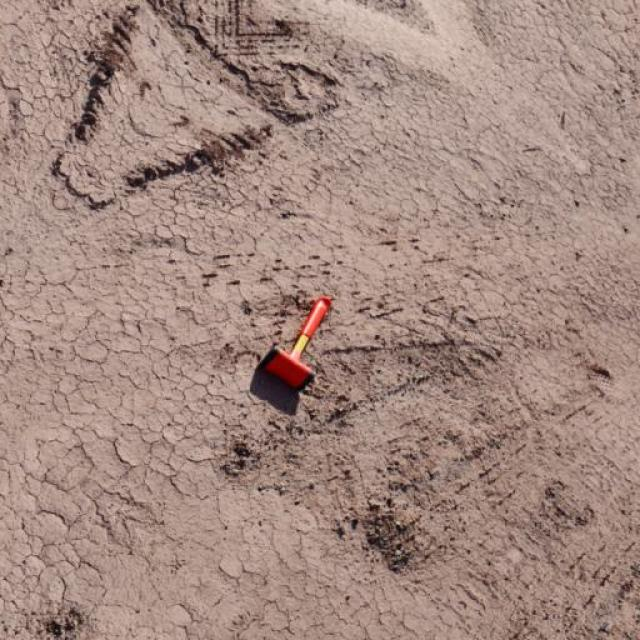mallet: (258, 294, 332, 391)
